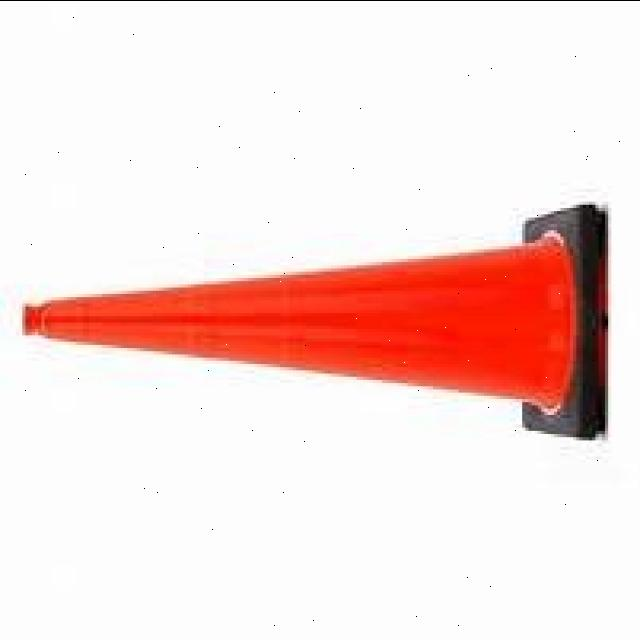traffic cone: (16, 196, 624, 454)
